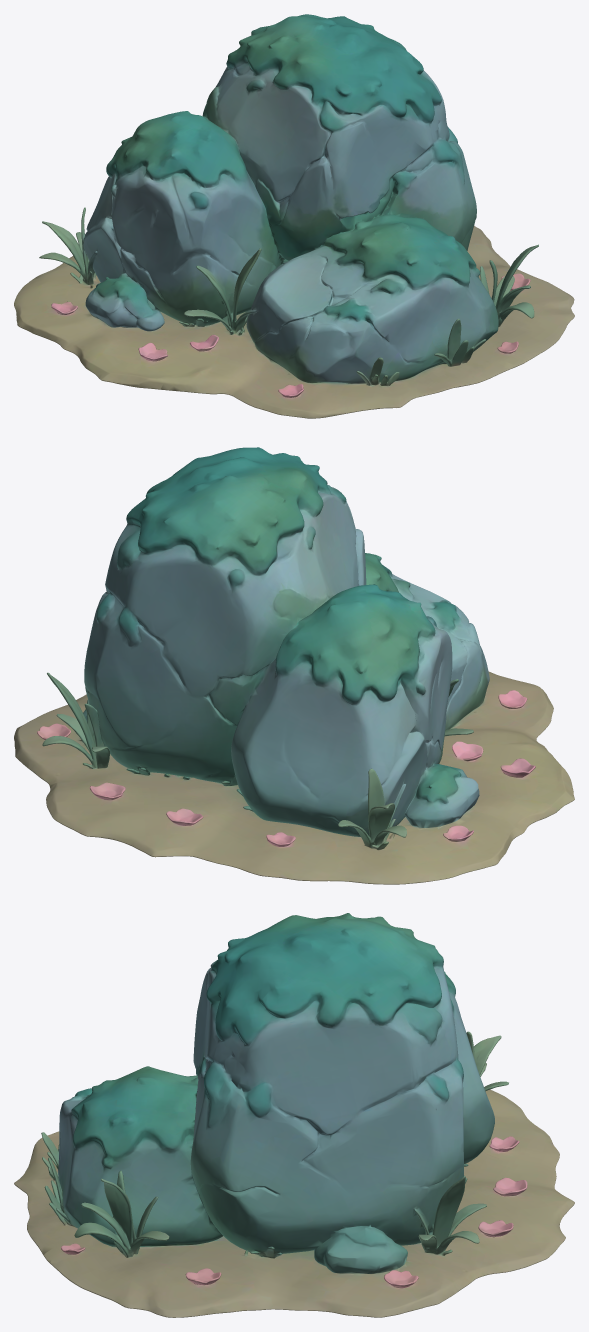
Rendered from rocks.glb.
3 renders of one model, top to bottom at view 1: azimuth 30°, elevation 25°; view 2: azimuth 150°, elevation 25°; view 3: azimuth 270°, elevation 25°, orthographic. The views are drawn at different scales.
Parts seen in each view (by area): view 1: tripo_node_dad0cdce-076e-41e7-90fc-2c00e3a4a830; view 2: tripo_node_dad0cdce-076e-41e7-90fc-2c00e3a4a830; view 3: tripo_node_dad0cdce-076e-41e7-90fc-2c00e3a4a830.
Boxes of the visible parts, <box> form: tripo_node_dad0cdce-076e-41e7-90fc-2c00e3a4a830: <box>14,14,574,418</box>; tripo_node_dad0cdce-076e-41e7-90fc-2c00e3a4a830: <box>14,447,574,884</box>; tripo_node_dad0cdce-076e-41e7-90fc-2c00e3a4a830: <box>14,913,574,1317</box>.
Bounding box in the file's own units: 1 × 0.5542 × 0.9675.
Materials: 1 (1 with a texture image).
